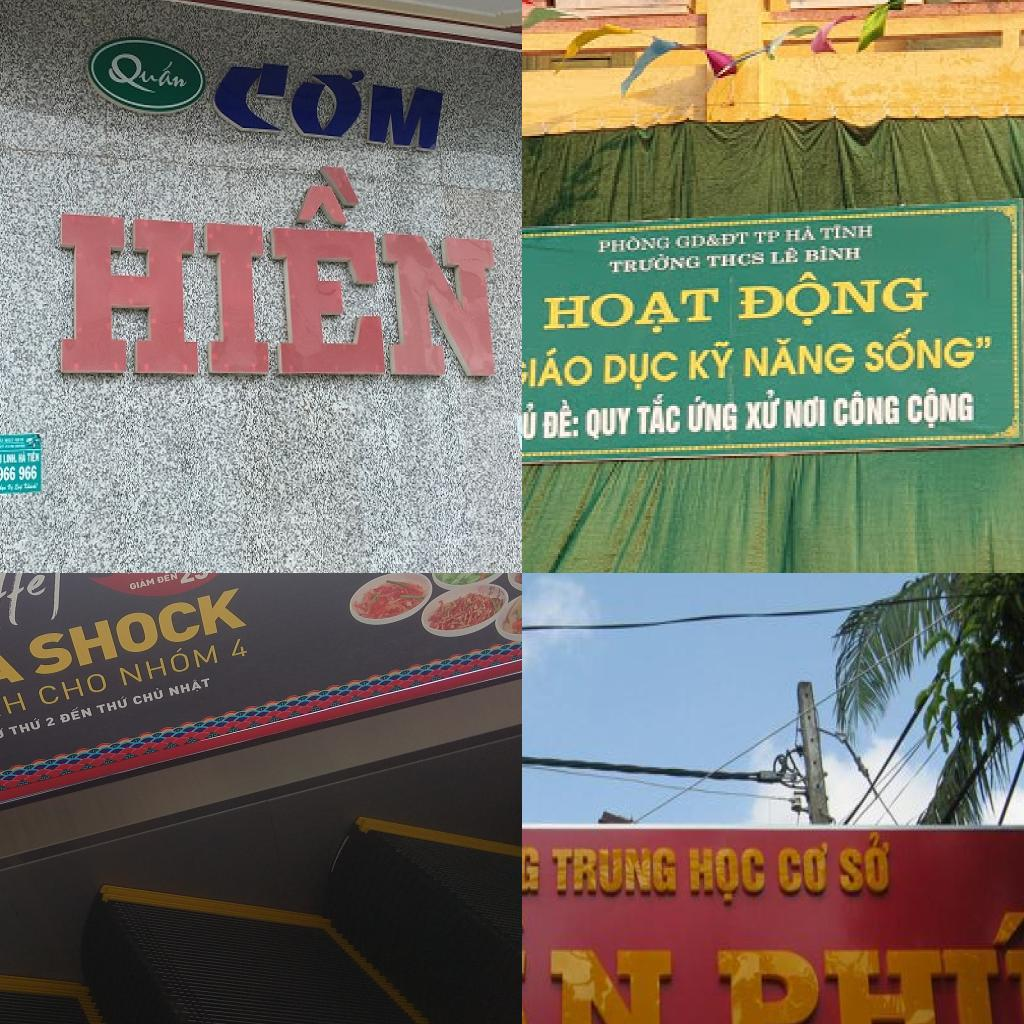text: (48, 150, 501, 380), (714, 908, 1024, 1024), (209, 47, 449, 159), (20, 586, 252, 678), (522, 890, 673, 1024), (730, 266, 928, 332), (538, 280, 725, 336), (0, 573, 109, 665), (860, 324, 998, 378), (550, 848, 678, 894), (739, 332, 856, 378), (118, 638, 220, 687), (689, 846, 767, 902), (104, 49, 190, 97), (598, 348, 680, 396), (522, 344, 593, 394), (838, 830, 892, 894), (834, 388, 902, 432), (37, 670, 110, 708), (777, 842, 830, 894), (682, 392, 741, 438), (682, 336, 737, 384), (603, 252, 700, 276), (738, 386, 782, 434), (0, 630, 27, 708), (782, 392, 834, 432), (633, 398, 682, 440), (542, 402, 585, 446), (585, 406, 635, 442), (673, 228, 750, 250), (594, 234, 673, 254), (818, 218, 876, 244), (800, 244, 865, 266), (0, 687, 28, 734), (703, 250, 768, 270), (522, 402, 539, 448), (92, 695, 130, 715), (57, 703, 93, 724), (7, 717, 43, 736), (782, 222, 816, 242), (770, 246, 802, 266), (132, 686, 165, 705), (176, 573, 225, 585), (227, 636, 251, 660), (752, 228, 782, 246), (129, 576, 156, 591), (18, 465, 38, 483), (0, 465, 16, 482), (155, 573, 179, 584), (43, 714, 57, 728), (3, 452, 17, 465), (16, 450, 28, 464), (28, 450, 40, 464), (0, 724, 7, 742), (0, 453, 3, 465), (121, 573, 133, 576)
